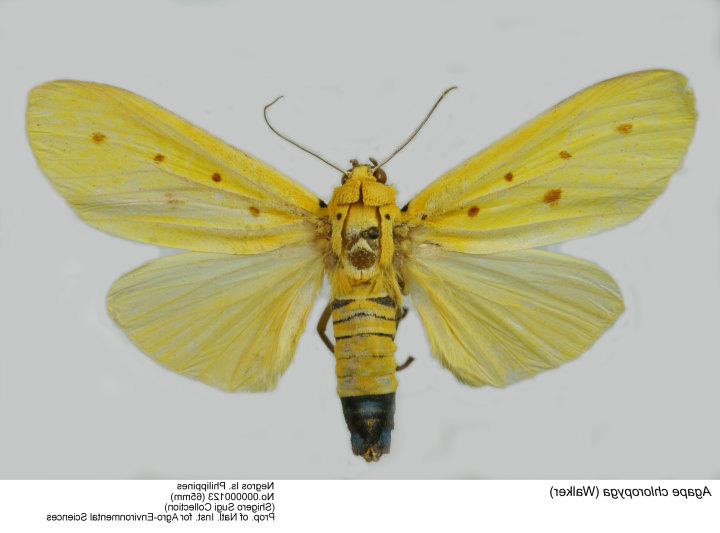Agape chloropyga: (24, 48, 701, 466)
moth: (22, 46, 699, 464)
